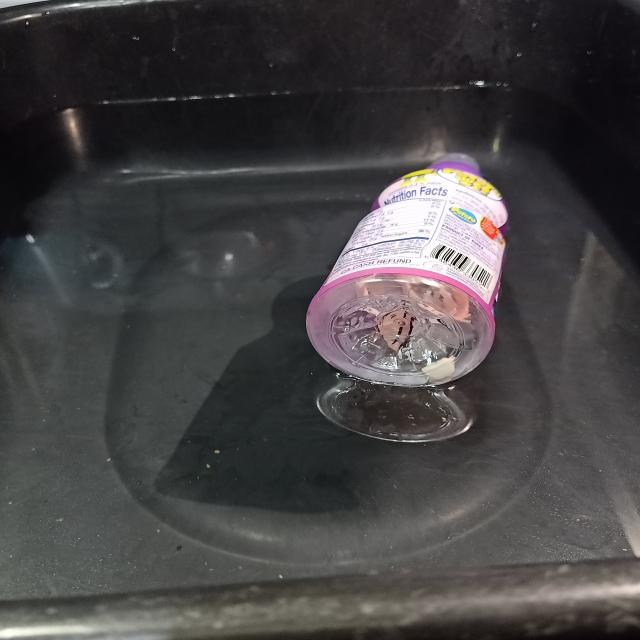Plastic Bottle: (306, 154, 509, 388)
